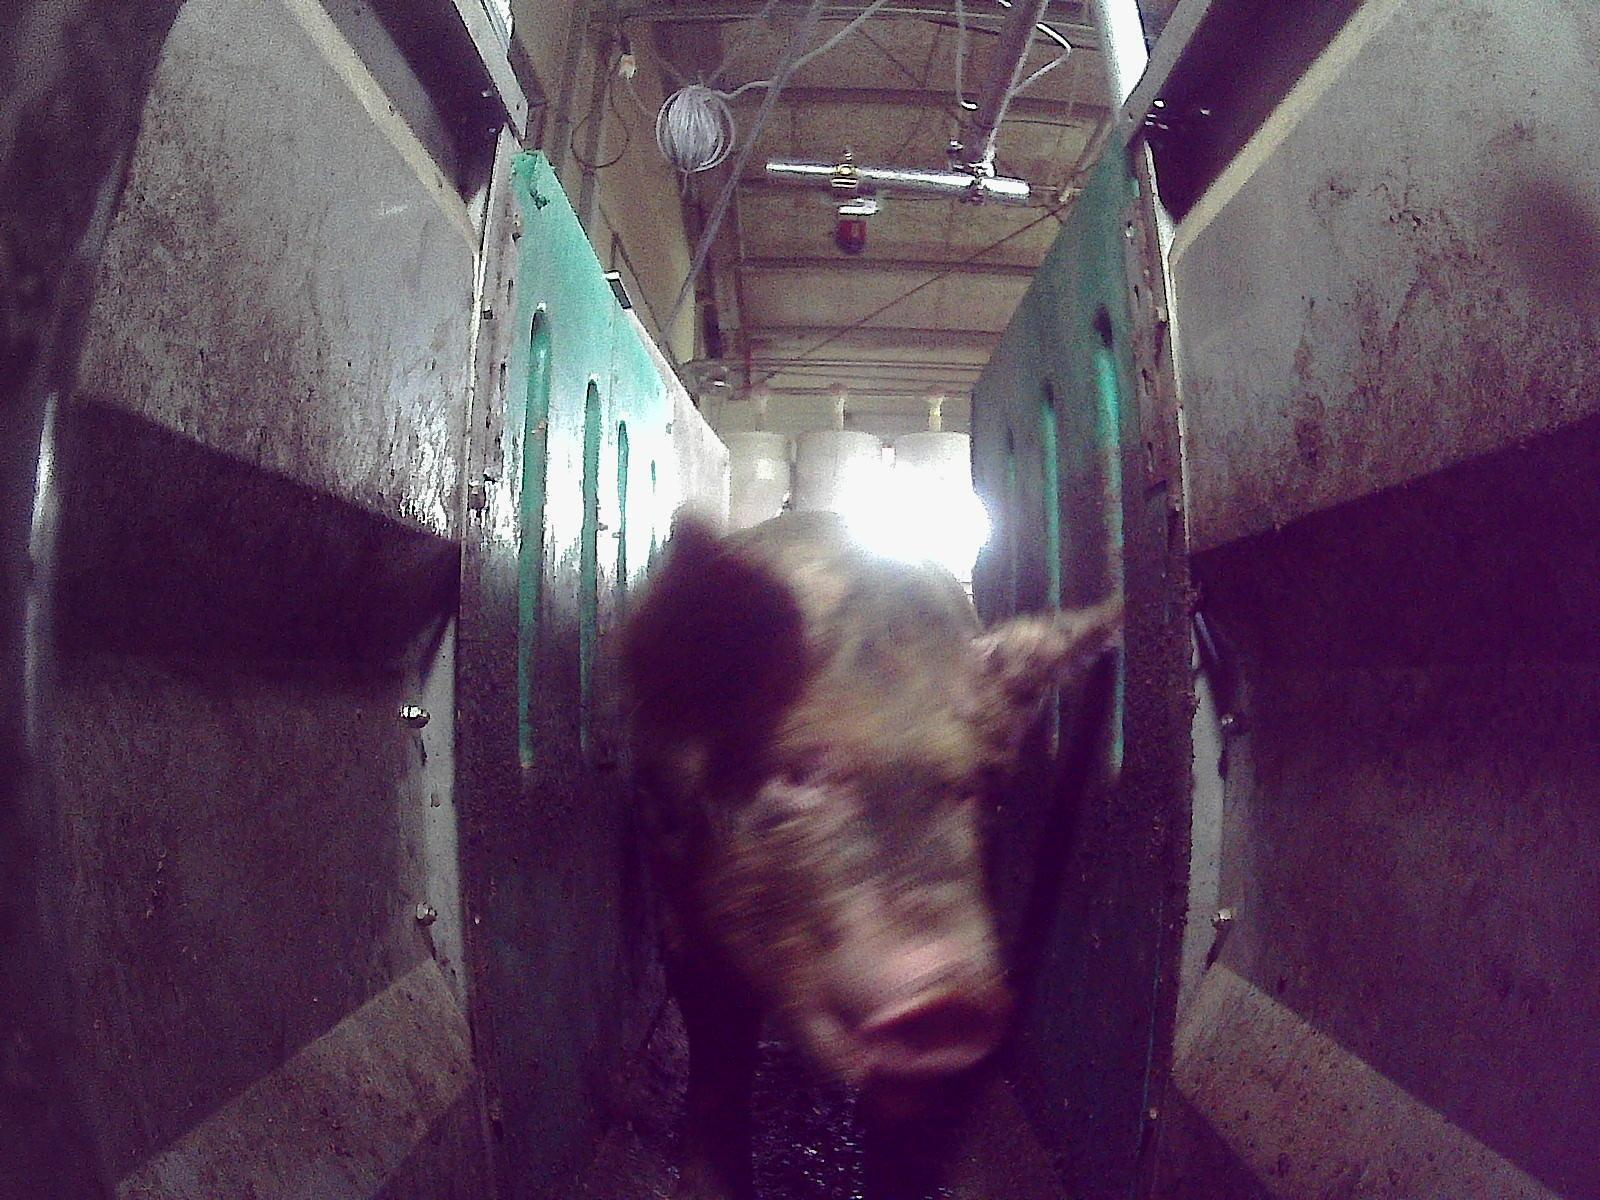Face: (671, 607, 1012, 1118)
